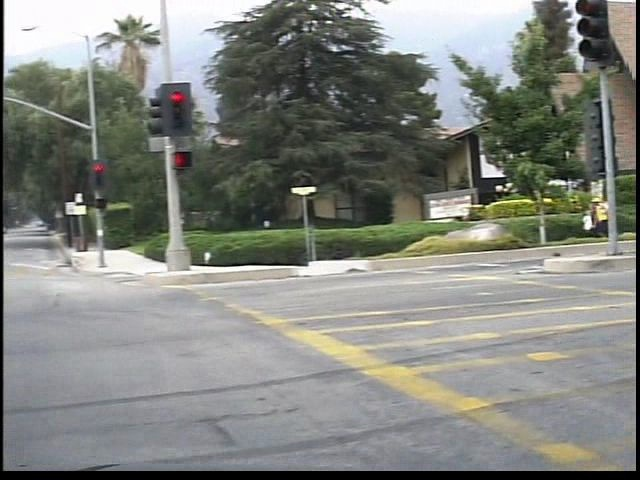person: (600, 187, 623, 242)
